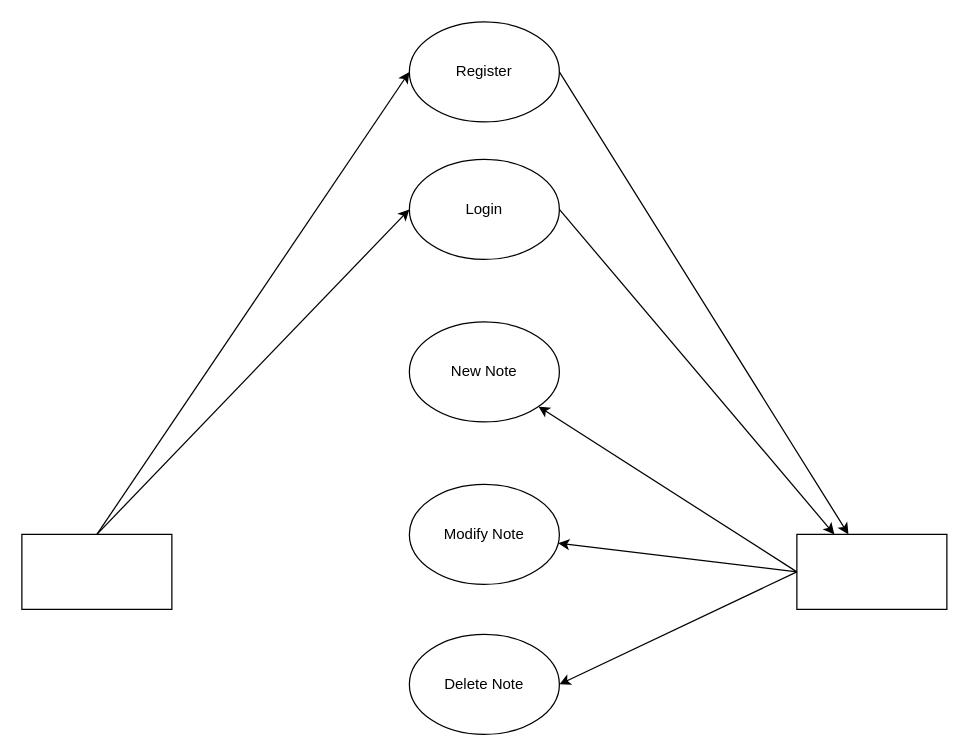
Image size: 969x756. Some labels were removed from this diagram. The box of each missing label's shape, as (x1, y1, x2, y2) in pixels:
Guest: (21, 533, 172, 609)
User: (796, 533, 947, 609)
